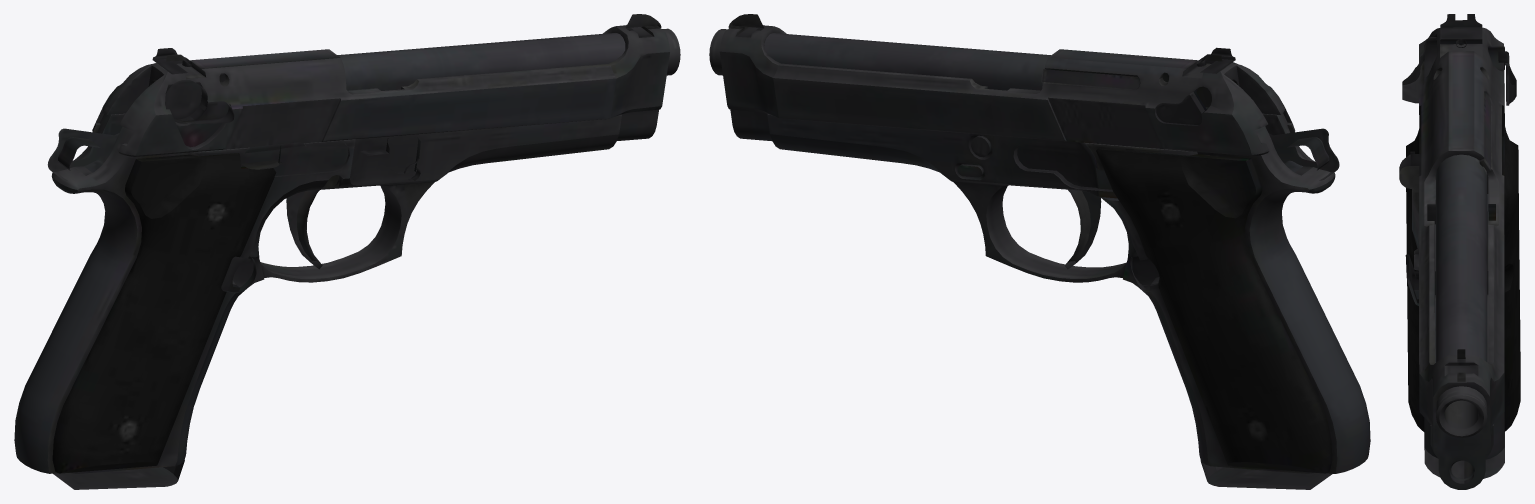
File: beretta.glb
The picture shows the model from 3 angles, left to right: view 1: azimuth 30°, elevation 25°; view 2: azimuth 150°, elevation 25°; view 3: azimuth 270°, elevation 25°; orthographic projection. The views are drawn at different scales.
Parts seen in each view (by area): view 1: beretta; view 2: beretta; view 3: beretta.
Part boxes in pixels (left/top/right/bottom): beretta: left=14, top=14, right=680, bottom=489; beretta: left=709, top=14, right=1370, bottom=489; beretta: left=1399, top=14, right=1520, bottom=489.
Bounding box in the file's own units: 0.217 × 0.1346 × 0.032.
1 material, 1 textured.
